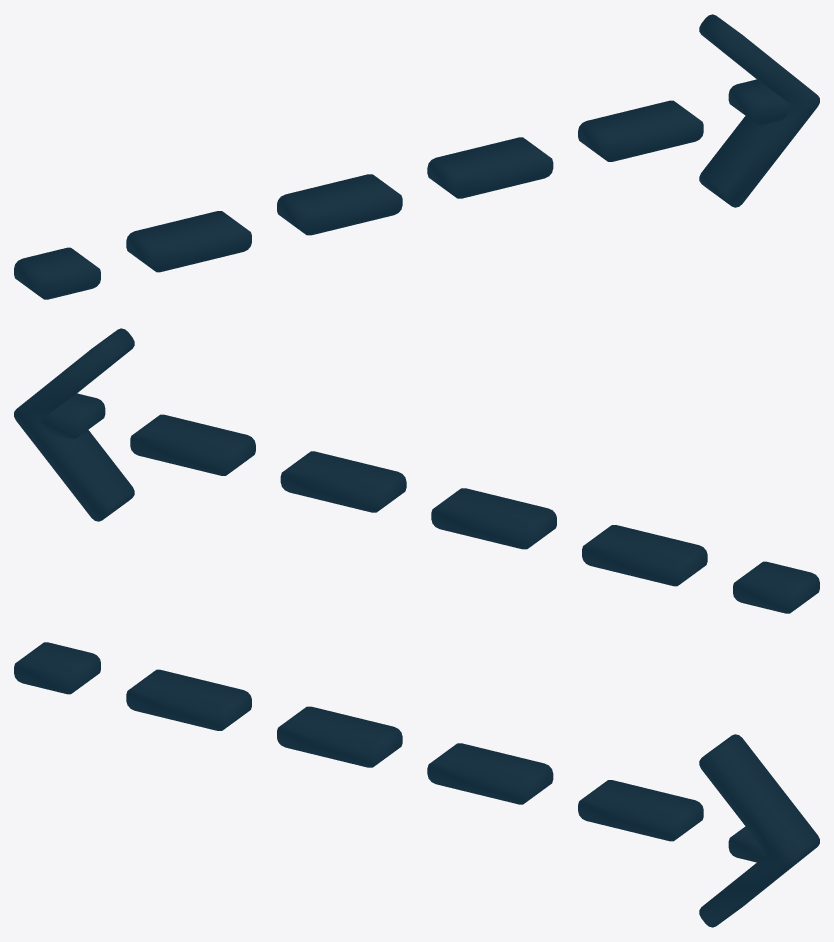
Rendered from arrowDot.gltf.
3 renders of one model, top to bottom at view 1: azimuth 30°, elevation 25°; view 2: azimuth 150°, elevation 25°; view 3: azimuth 330°, elevation 25°, orthographic.
Parts seen in each view (by area): view 1: Plane.011, Plane.010; view 2: Plane.011, Plane.010; view 3: Plane.011, Plane.010.
Part boxes in pixels (box(x1,y1,x2,y2)): Plane.011: box(14, 79, 792, 299); Plane.010: box(699, 14, 819, 207); Plane.011: box(41, 393, 819, 613); Plane.010: box(14, 328, 134, 521); Plane.011: box(14, 642, 766, 862); Plane.010: box(699, 734, 819, 927).
Size of the model in its own units: 2.53 by 0.5369 by 0.1479.
